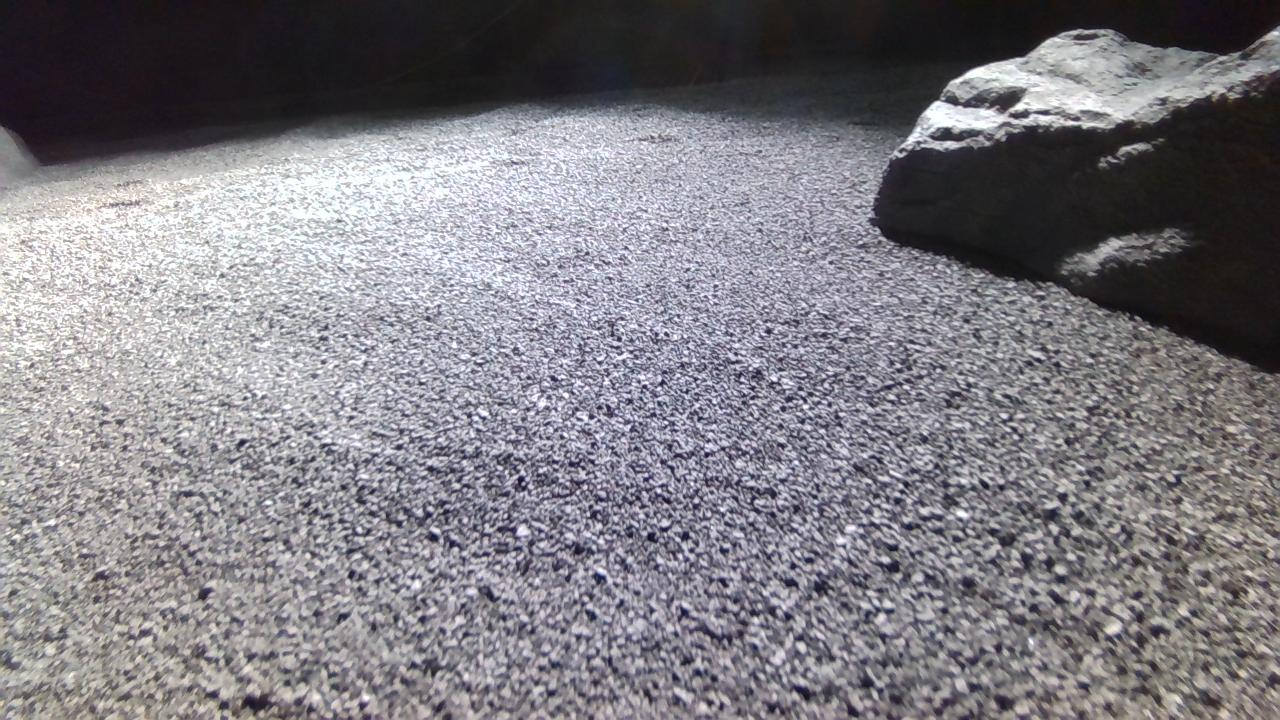rock: (877, 28, 1280, 348), (0, 125, 37, 186)
